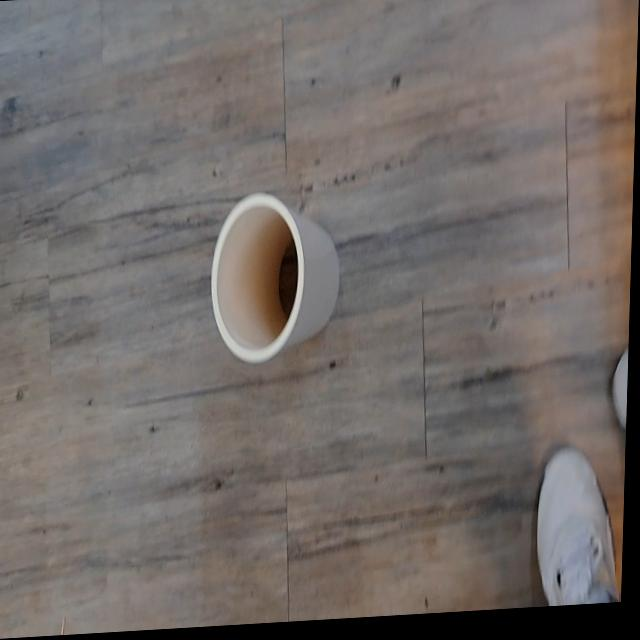CORAL: (185, 167, 363, 391)
